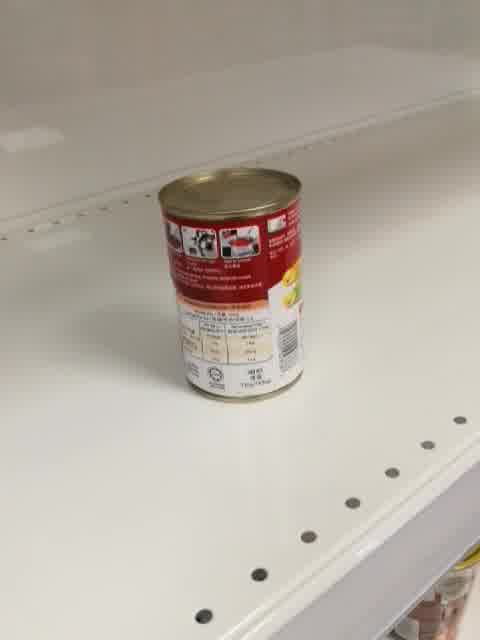tomatosoup: (156, 161, 307, 405)
